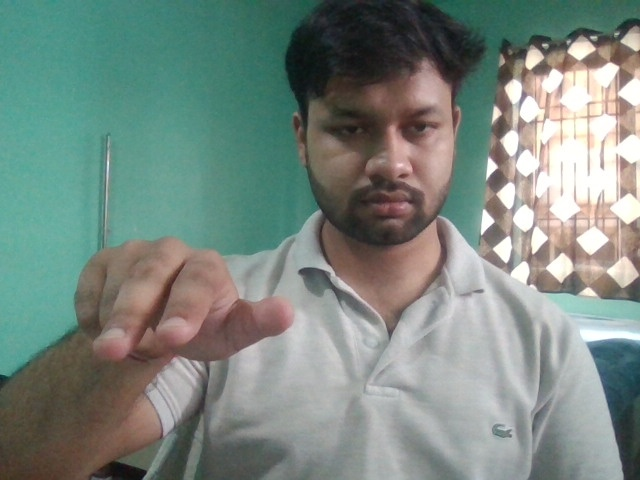No: (71, 236, 296, 372)
